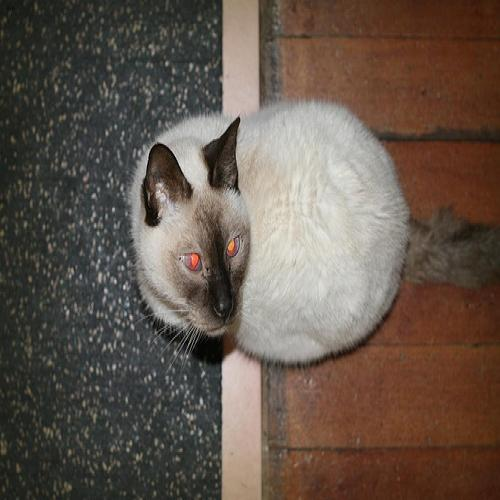siamese: (128, 115, 272, 353)
